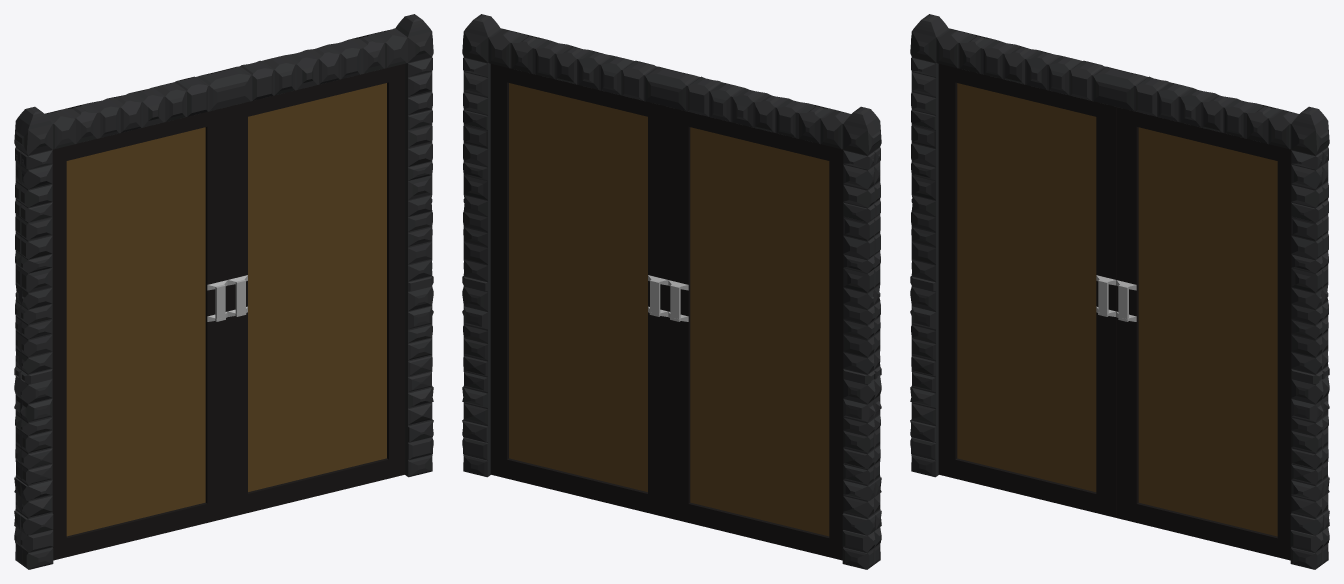
Rendered from Door.fbx.
3 renders of one model, left to right at view 1: azimuth 30°, elevation 25°; view 2: azimuth 150°, elevation 25°; view 3: azimuth 330°, elevation 25°, orthographic.
Visible parts, largest first — view 1: Cube.002, Cube.003, Cube; view 2: Cube.002, Cube.003, Cube; view 3: Cube.003, Cube.002, Cube.
Boxes of the visible parts, left/top/right/bottom form: Cube.002: left=227, top=64, right=405, bottom=517; Cube.003: left=52, top=107, right=227, bottom=560; Cube: left=14, top=14, right=433, bottom=569; Cube.002: left=490, top=64, right=668, bottom=517; Cube.003: left=668, top=107, right=843, bottom=560; Cube: left=462, top=14, right=881, bottom=569; Cube.003: left=938, top=64, right=1116, bottom=517; Cube.002: left=1116, top=107, right=1291, bottom=560; Cube: left=910, top=14, right=1329, bottom=569.
Size of the model in its own units: 1622 by 1699 by 138.
